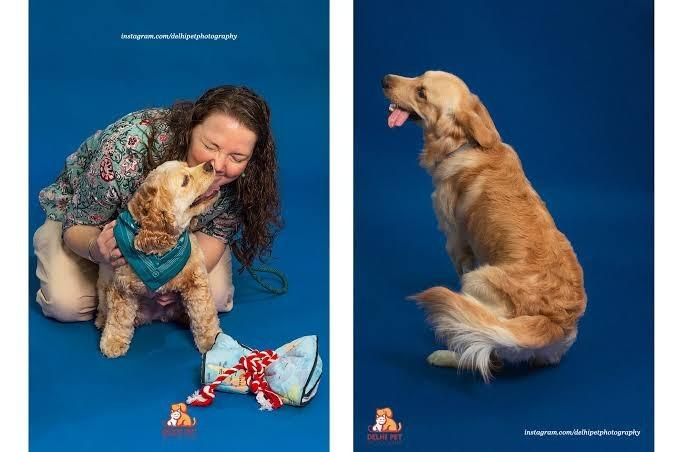adult_dog: (380, 69, 588, 378), (89, 158, 222, 358)
non-dog: (35, 86, 289, 323)
